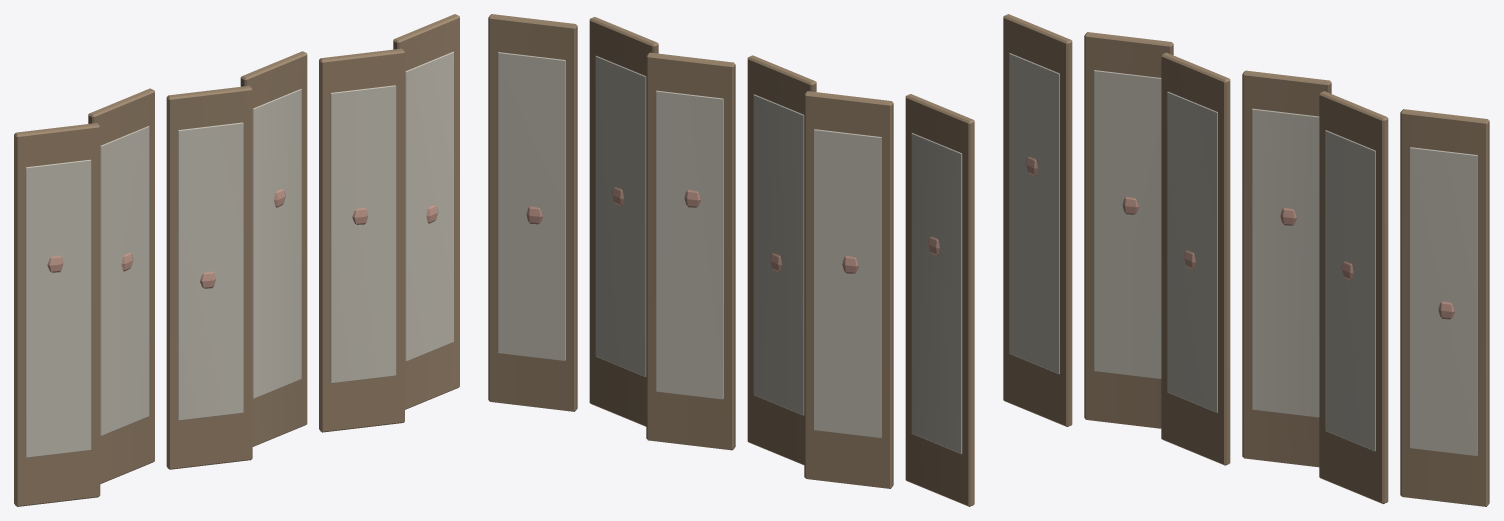
File: furn_folding_screen__walnut.glb
3 views of the same model, side by side, from view 1: azimuth 30°, elevation 25°; view 2: azimuth 150°, elevation 25°; view 3: azimuth 330°, elevation 25° (orthographic). The views are drawn at different scales.
Size of the model in its own units: 1.8 by 1.4 by 0.1803.
